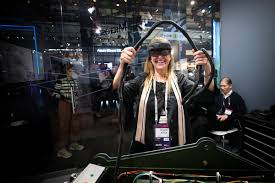hololens: (147, 42, 173, 58)
